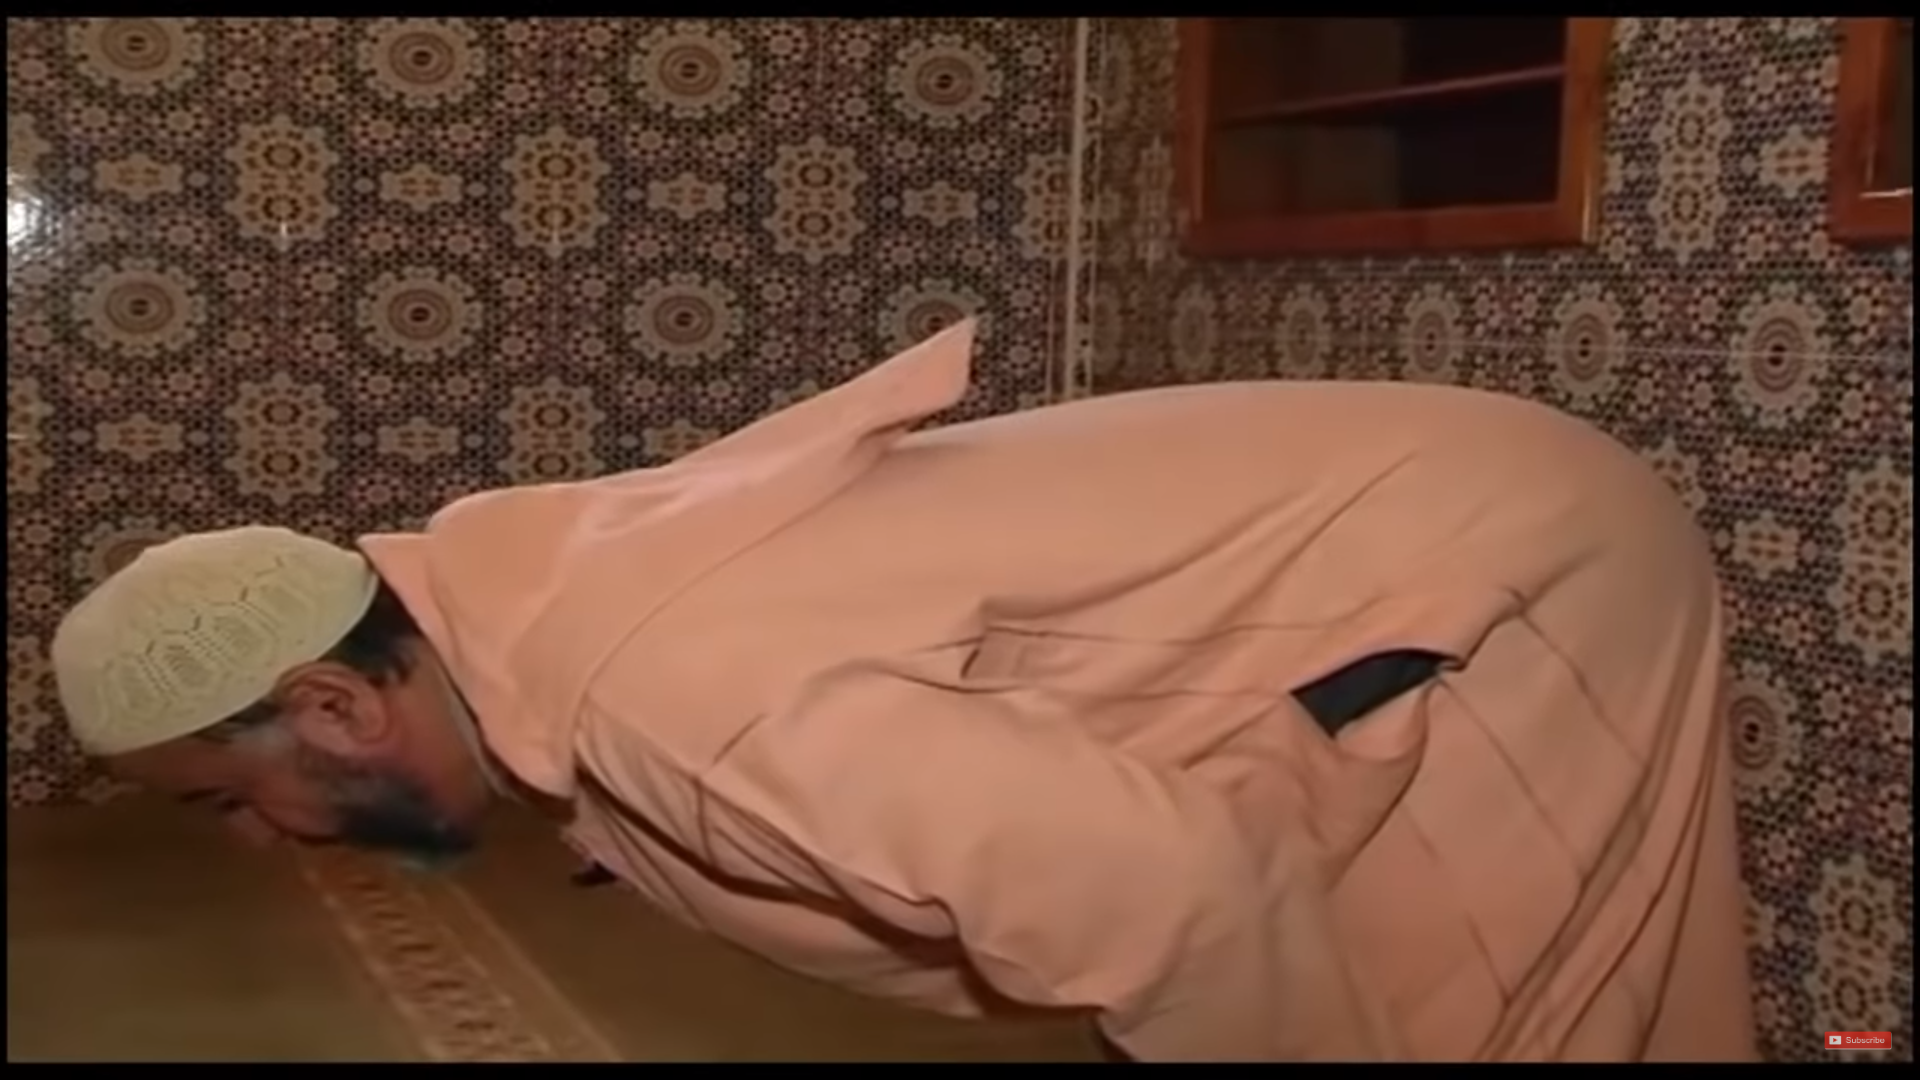ruku: (42, 282, 1844, 1080)
